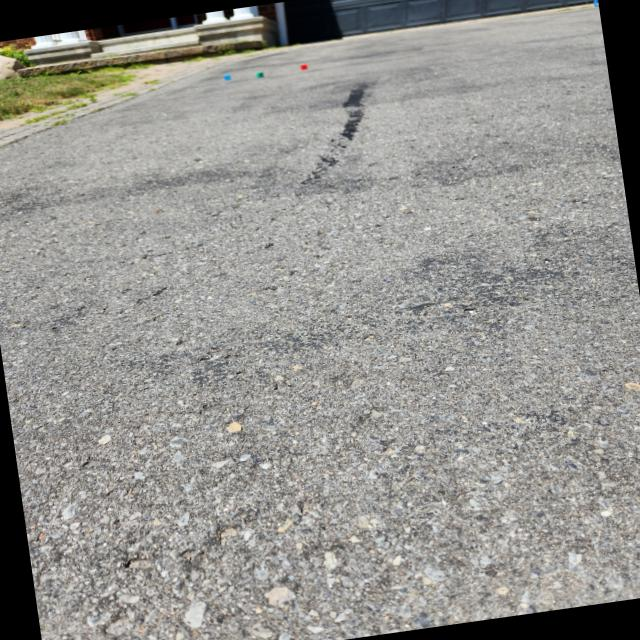bluecube: (224, 74, 232, 80)
green cube: (256, 72, 264, 78)
red cube: (300, 64, 307, 70)
